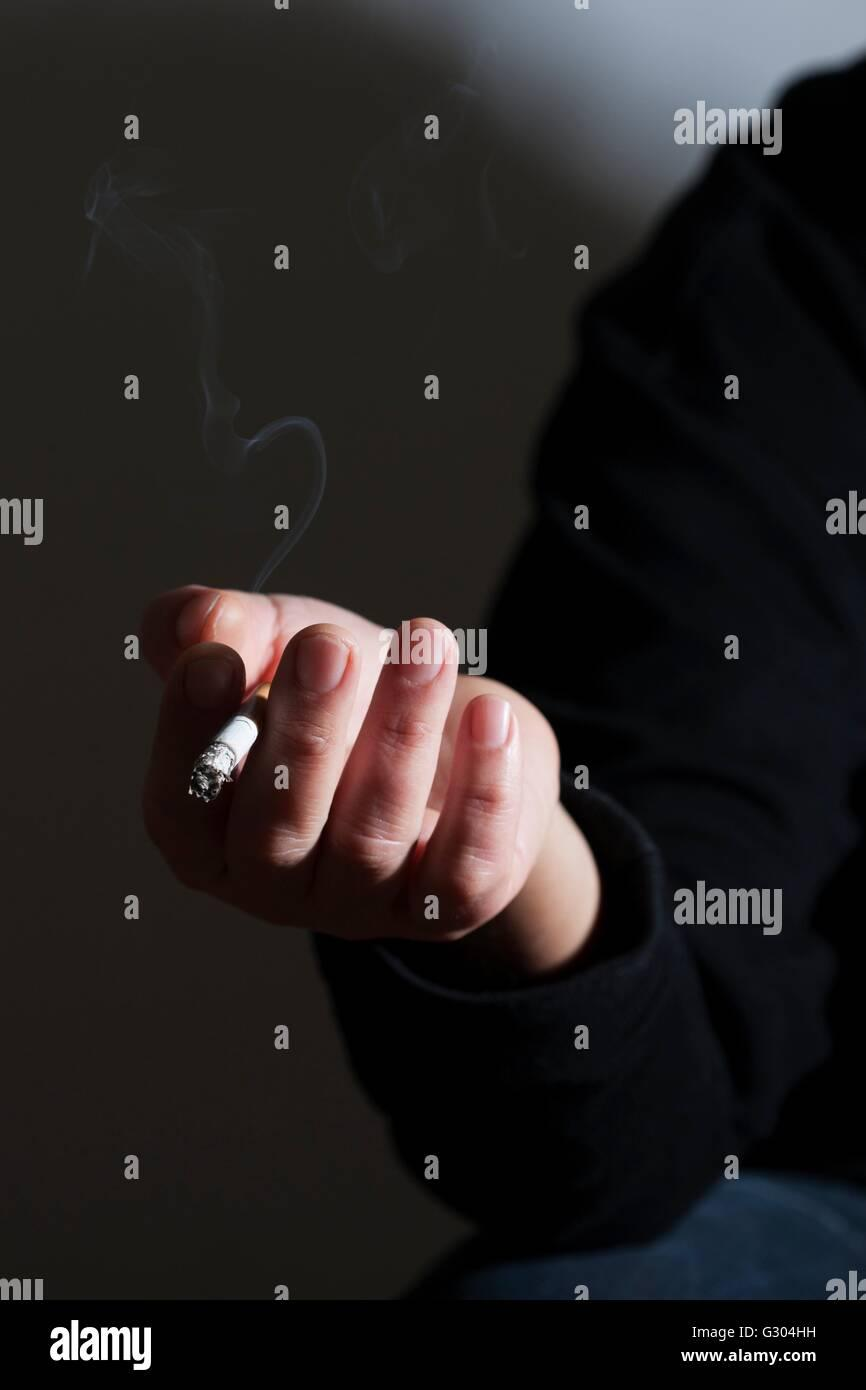cigarette: (189, 683, 269, 801)
